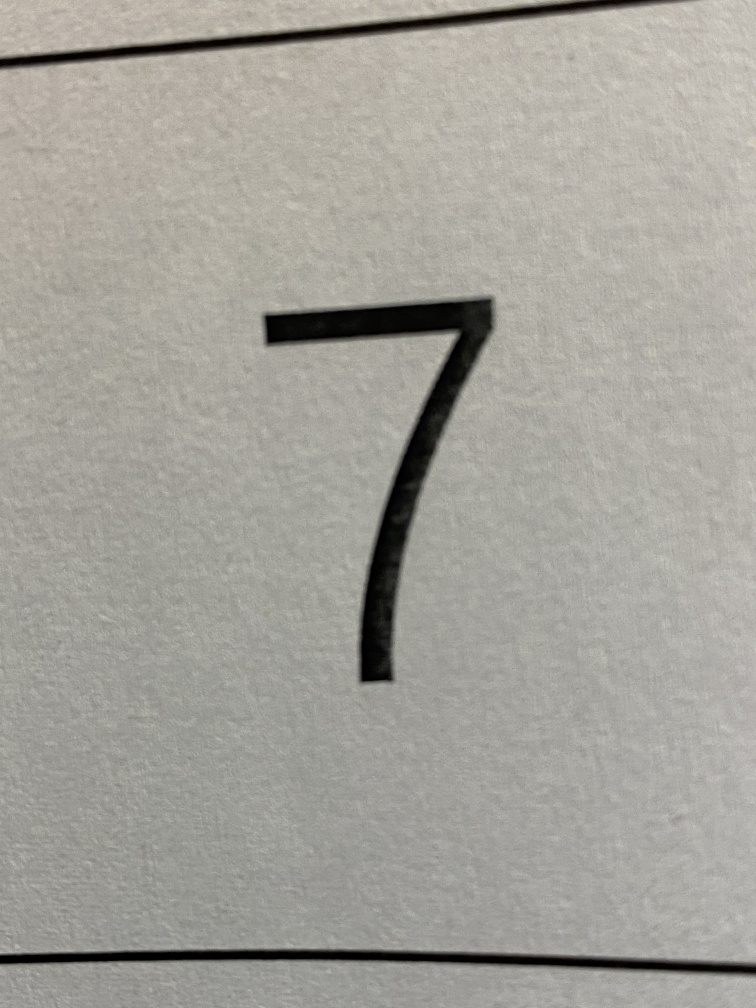seven: (192, 216, 584, 763)
